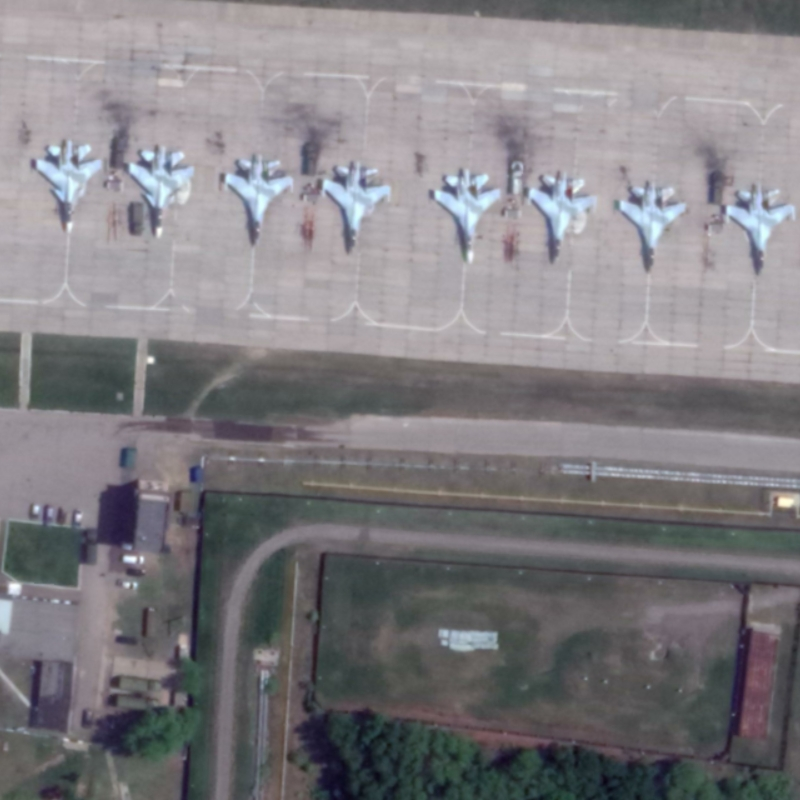A1: (427, 165, 505, 267), (220, 151, 297, 249), (720, 179, 797, 274), (524, 168, 599, 264), (318, 158, 393, 253), (615, 179, 690, 273)
A19: (125, 143, 198, 242), (33, 138, 106, 236)
